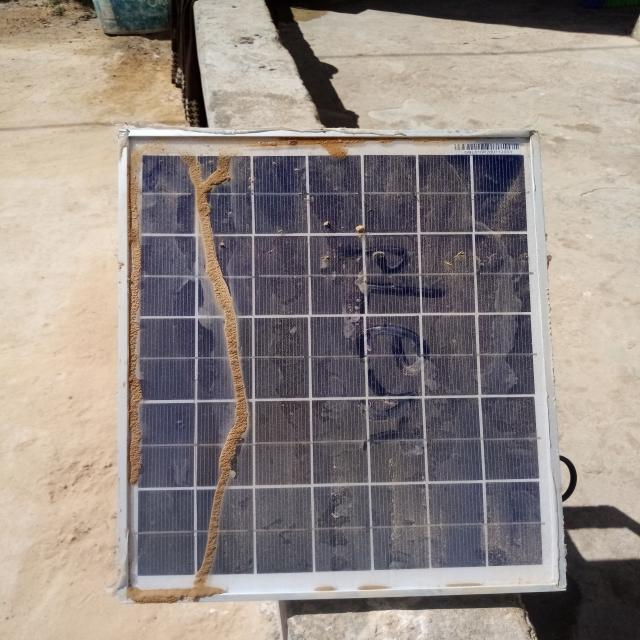faulty: (124, 134, 563, 602)
